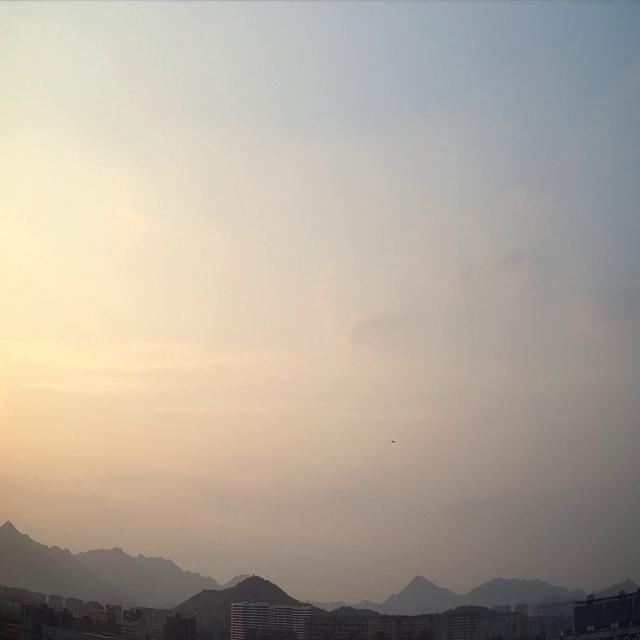drone: (392, 439, 396, 444)
